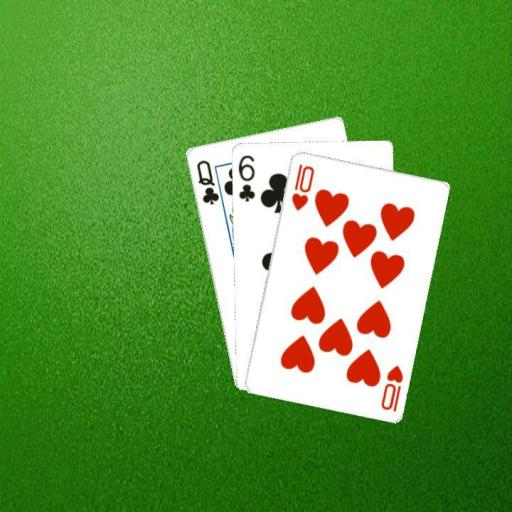10H: (288, 161, 316, 212), (377, 362, 405, 413)
6C: (234, 152, 256, 203)
QC: (193, 157, 220, 207)
